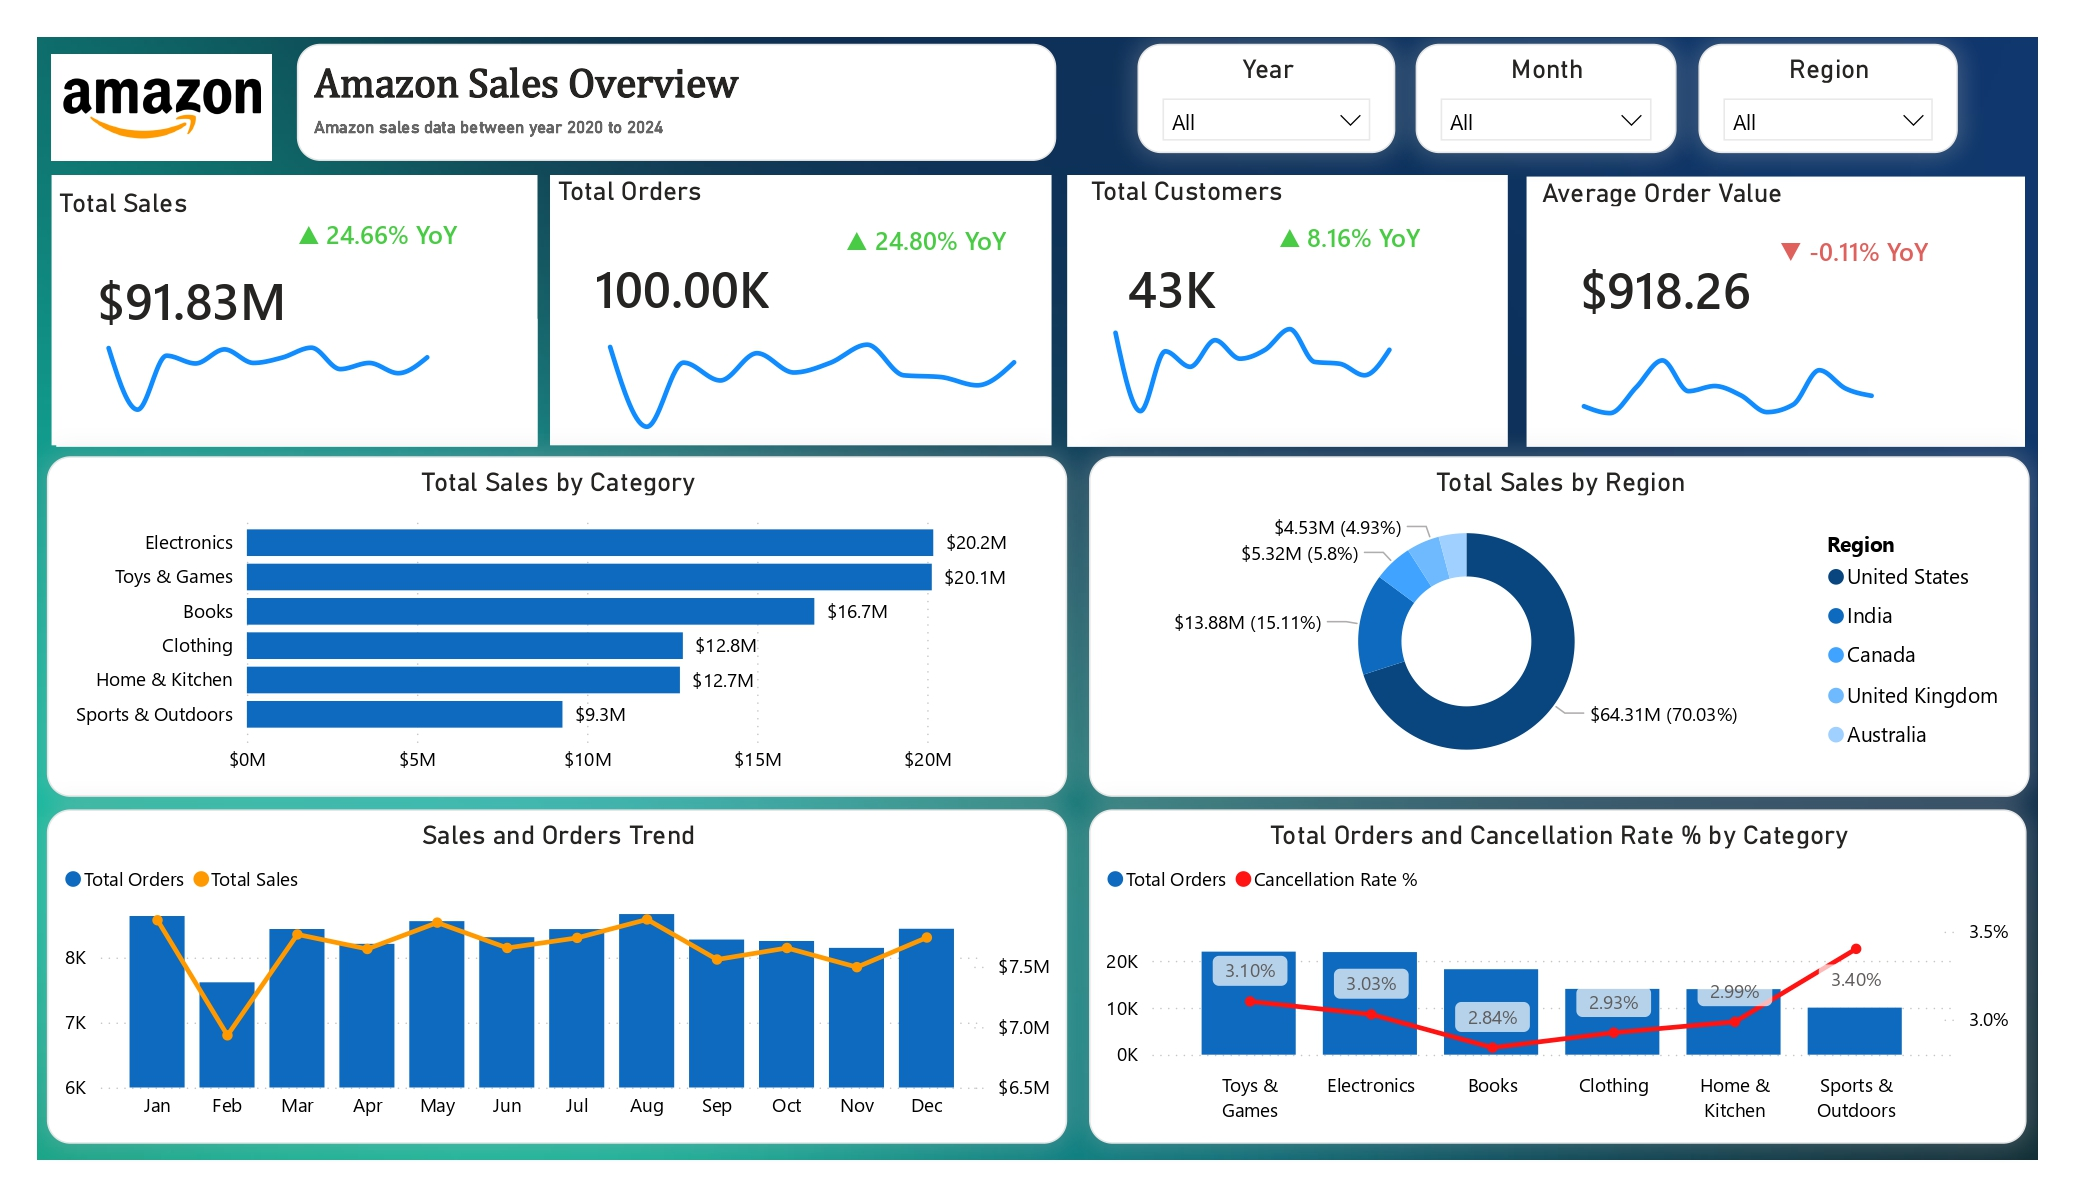

The page's visual inventory and layout, read from the dashboard file:
{"tool":"powerbi","page":{"name":"Executive Summary","canvas":[1280,720],"ordinal":0},"visuals":[{"type":"cardVisual","title":"Total Customers","fields":{"Data":["_All Measures.Total Customers"]},"box":[669.4,88,271.2,173.9],"z":0,"group":"g4"},{"type":"group","id":"g1","title":"Group 1","box":[8.6,88.4,311.4,173],"z":0},{"type":"cardVisual","title":"Total Orders","fields":{"Data":["_All Measures.Total Orders"]},"box":[328.2,88.4,320.5,172.6],"z":0,"group":"g3"},{"type":"cardVisual","title":"Average Order Value","fields":{"Data":["_All Measures.AOV"]},"box":[957.7,89,314.3,170],"z":0,"group":"g5"},{"type":"lineChart","fields":{"Y":["_All Measures.Total Revenue"],"Category":["Dim_Date.Month No"]},"box":[11.4,180.1,308.2,82.4],"z":0,"group":"g1"},{"type":"slicer","title":"Year","fields":{"Values":["Dim_Date.Year"]},"box":[704.4,3.8,164.3,70.2],"z":1000},{"type":"cardVisual","title":"Total Sales","fields":{"Data":["_All Measures.Total Revenue"]},"box":[8.6,96.6,288.7,116.8],"z":1000,"group":"g1"},{"type":"lineChart","fields":{"Category":["Dim_Date.Month No"],"Y":["_All Measures.Total Orders"]},"box":[327.7,166.4,312.3,95],"z":1000,"group":"g3"},{"type":"lineChart","fields":{"Y":["_All Measures.Total Customers"],"Category":["Dim_Date.Month No"]},"box":[659,170.9,269.3,80.8],"z":1000,"group":"g4"},{"type":"lineChart","fields":{"Category":["Dim_Date.Month No"],"Y":["_All Measures.AOV"]},"box":[957.7,179,281.6,83],"z":1000,"group":"g5"},{"type":"cardVisual","fields":{"Data":["_All Measures.Profit_MoM_Indicator"]},"box":[24.2,88.4,273,72.2],"z":2000,"group":"g1"},{"type":"group","id":"g2","title":"Group 2","box":[327.7,88.4,321,173],"z":2000},{"type":"cardVisual","fields":{"Data":["_All Measures.Order_YoY_Indicator"]},"box":[327.7,88.4,321,72.3],"z":2000,"group":"g3"},{"type":"cardVisual","fields":{"Data":["_All Measures.Customer_YoY_Indicator"]},"box":[659,89.1,255.3,74],"z":2000,"group":"g4"},{"type":"cardVisual","fields":{"Data":["_All Measures.AOV_YoY_Indicator"]},"box":[953,104.7,285.6,60.2],"z":2000,"group":"g5"},{"type":"group","id":"g3","title":"Group 3","box":[327.7,88.4,321,173],"z":2001,"group":"g2"},{"type":"group","id":"g4","title":"Group 4","box":[659,88,282,174],"z":3000},{"type":"group","id":"g5","title":"Group 5","box":[953,89,319,173],"z":4000},{"type":"clusteredBarChart","fields":{"Category":["Dim_Product.Category"],"Y":["_All Measures.Total Sales"]},"box":[6,268,653,218],"z":5000},{"type":"donutChart","title":"Total Sales by Region","fields":{"Category":["Dim_Location.Country"],"Y":["_All Measures.Total Sales"]},"box":[673,268,602,218],"z":6000},{"type":"lineStackedColumnComboChart","fields":{"Category":["Dim_Product.Category"],"Y":["_All Measures.Total Orders"],"Y2":["_All Measures.Cancellation Rate %"]},"box":[673,494,600,214],"z":7000},{"type":"lineStackedColumnComboChart","title":"Sales and Orders Trend","fields":{"Category":["Dim_Date.Month Name"],"Y":["_All Measures.Total Orders"],"Y2":["_All Measures.Total Sales"]},"box":[6,494,653,214],"z":8000},{"type":"slicer","title":"Month","fields":{"Values":["Dim_Date.Month No"]},"box":[882.2,3.8,167.2,70.2],"z":9000},{"type":"textbox","box":[166,4,486,75],"z":10000},{"type":"slicer","title":"Region","fields":{"Values":["Dim_Location.Country"]},"box":[1062.8,3.8,166.2,70.2],"z":11000},{"type":"image","box":[9,11,141,68],"z":12000}]}

Visuals, with their boxes on the page's 1280x720 design canvas (x1, y1, x2, y2). These are canvas units, not pixel positions in the 2075x1200 screenshot, which may show the page scaled, cropped or inside an application window:
"Total Customers" cardVisual: <bbox>669, 88, 941, 262</bbox>
"Group 1" group: <bbox>9, 88, 320, 261</bbox>
"Total Orders" cardVisual: <bbox>328, 88, 649, 261</bbox>
"Average Order Value" cardVisual: <bbox>958, 89, 1272, 259</bbox>
lineChart - _All Measures.Total Revenue x Dim_Date.Month No: <bbox>11, 180, 320, 262</bbox>
"Year" slicer: <bbox>704, 4, 869, 74</bbox>
"Total Sales" cardVisual: <bbox>9, 97, 297, 213</bbox>
lineChart - Dim_Date.Month No x _All Measures.Total Orders: <bbox>328, 166, 640, 261</bbox>
lineChart - _All Measures.Total Customers x Dim_Date.Month No: <bbox>659, 171, 928, 252</bbox>
lineChart - Dim_Date.Month No x _All Measures.AOV: <bbox>958, 179, 1239, 262</bbox>
cardVisual - _All Measures.Profit_MoM_Indicator: <bbox>24, 88, 297, 161</bbox>
"Group 2" group: <bbox>328, 88, 649, 261</bbox>
cardVisual - _All Measures.Order_YoY_Indicator: <bbox>328, 88, 649, 161</bbox>
cardVisual - _All Measures.Customer_YoY_Indicator: <bbox>659, 89, 914, 163</bbox>
cardVisual - _All Measures.AOV_YoY_Indicator: <bbox>953, 105, 1239, 165</bbox>
"Group 3" group: <bbox>328, 88, 649, 261</bbox>
"Group 4" group: <bbox>659, 88, 941, 262</bbox>
"Group 5" group: <bbox>953, 89, 1272, 262</bbox>
clusteredBarChart - Dim_Product.Category x _All Measures.Total Sales: <bbox>6, 268, 659, 486</bbox>
"Total Sales by Region" donutChart: <bbox>673, 268, 1275, 486</bbox>
lineStackedColumnComboChart - Dim_Product.Category x _All Measures.Total Orders: <bbox>673, 494, 1273, 708</bbox>
"Sales and Orders Trend" lineStackedColumnComboChart: <bbox>6, 494, 659, 708</bbox>
"Month" slicer: <bbox>882, 4, 1049, 74</bbox>
textbox: <bbox>166, 4, 652, 79</bbox>
"Region" slicer: <bbox>1063, 4, 1229, 74</bbox>
image: <bbox>9, 11, 150, 79</bbox>
